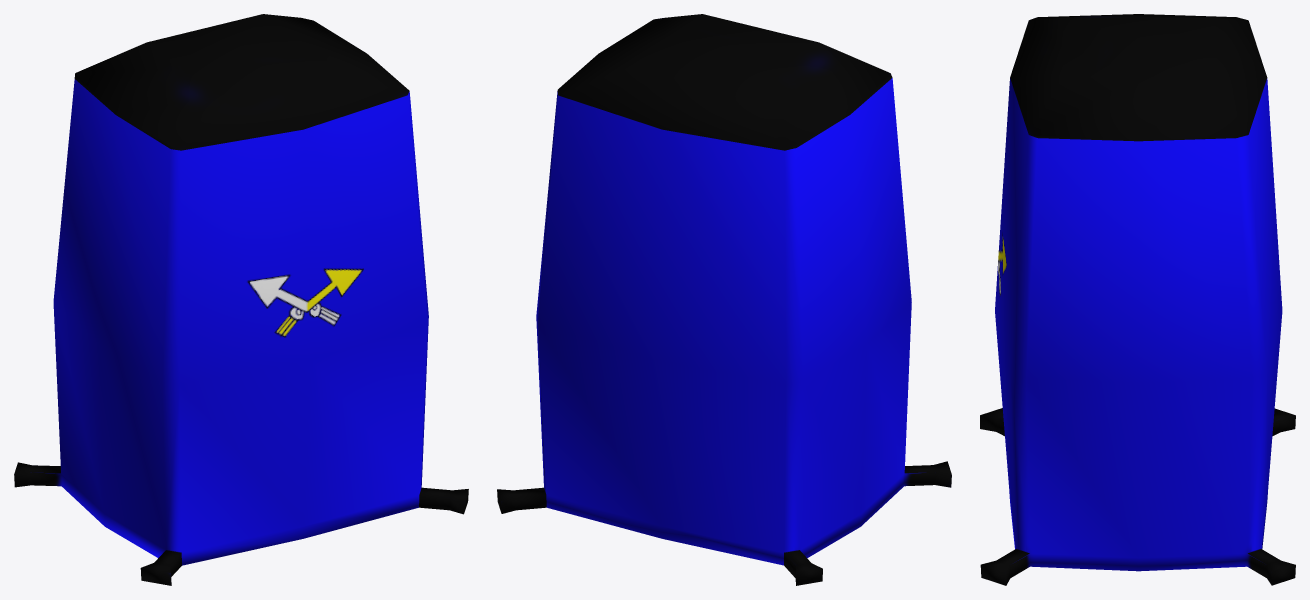
Rendered from inflatable_wall2.fbx.
3 renders of one model, left to right at view 1: azimuth 30°, elevation 25°; view 2: azimuth 150°, elevation 25°; view 3: azimuth 270°, elevation 25°, orthographic. The views are drawn at different scales.
Visible parts, largest first — view 1: SmallWall; view 2: SmallWall; view 3: SmallWall.
Boxes of the visible parts, x1=… form: SmallWall: x1=14, y1=14, x2=468, y2=585; SmallWall: x1=497, y1=14, x2=951, y2=585; SmallWall: x1=980, y1=14, x2=1295, y2=585.
Bounding box in the file's own units: 610 × 798 × 491.
